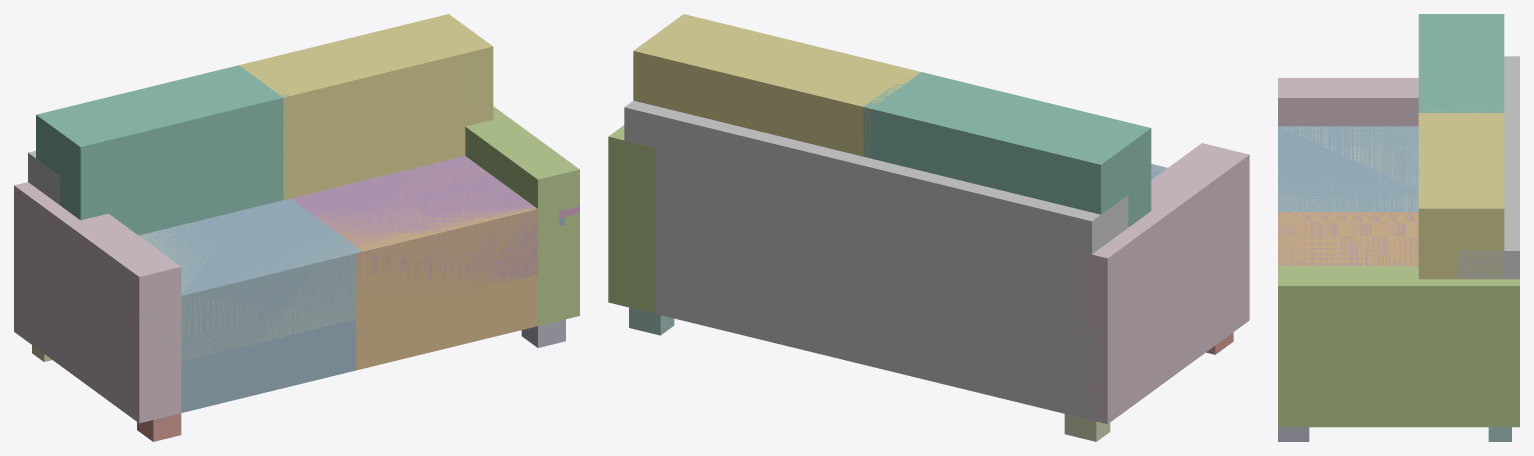
Rendered from sofa_bbox.glb.
3 views of the same model, side by side, from view 1: azimuth 30°, elevation 25°; view 2: azimuth 150°, elevation 25°; view 3: azimuth 270°, elevation 25° (orthographic). The views are drawn at different scales.
Visible parts, largest first — view 1: world; view 2: world; view 3: world.
Boxes of the visible parts, box(x1,y1,x2,y2) form: world: box(14, 14, 579, 441); world: box(608, 14, 1249, 441); world: box(1278, 14, 1519, 441).
Bounding box in the file's own units: 1 × 0.5238 × 0.4921.
